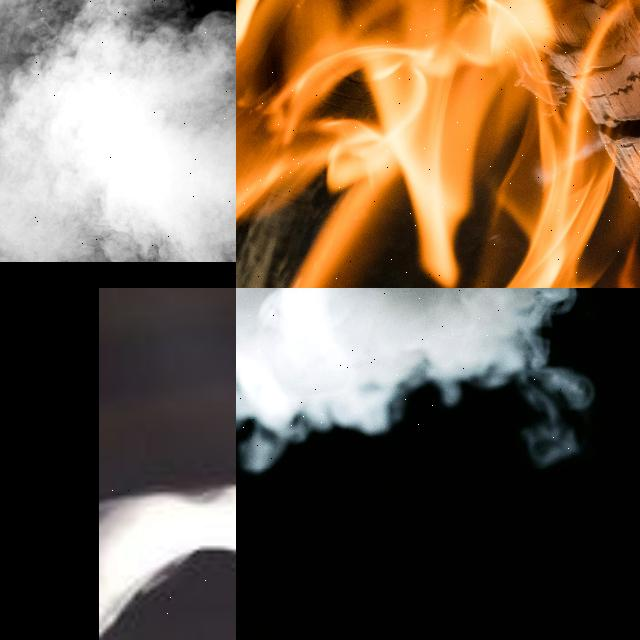fire: (236, 0, 640, 288)
smoke: (0, 0, 236, 262), (236, 288, 571, 468), (99, 491, 236, 640)
